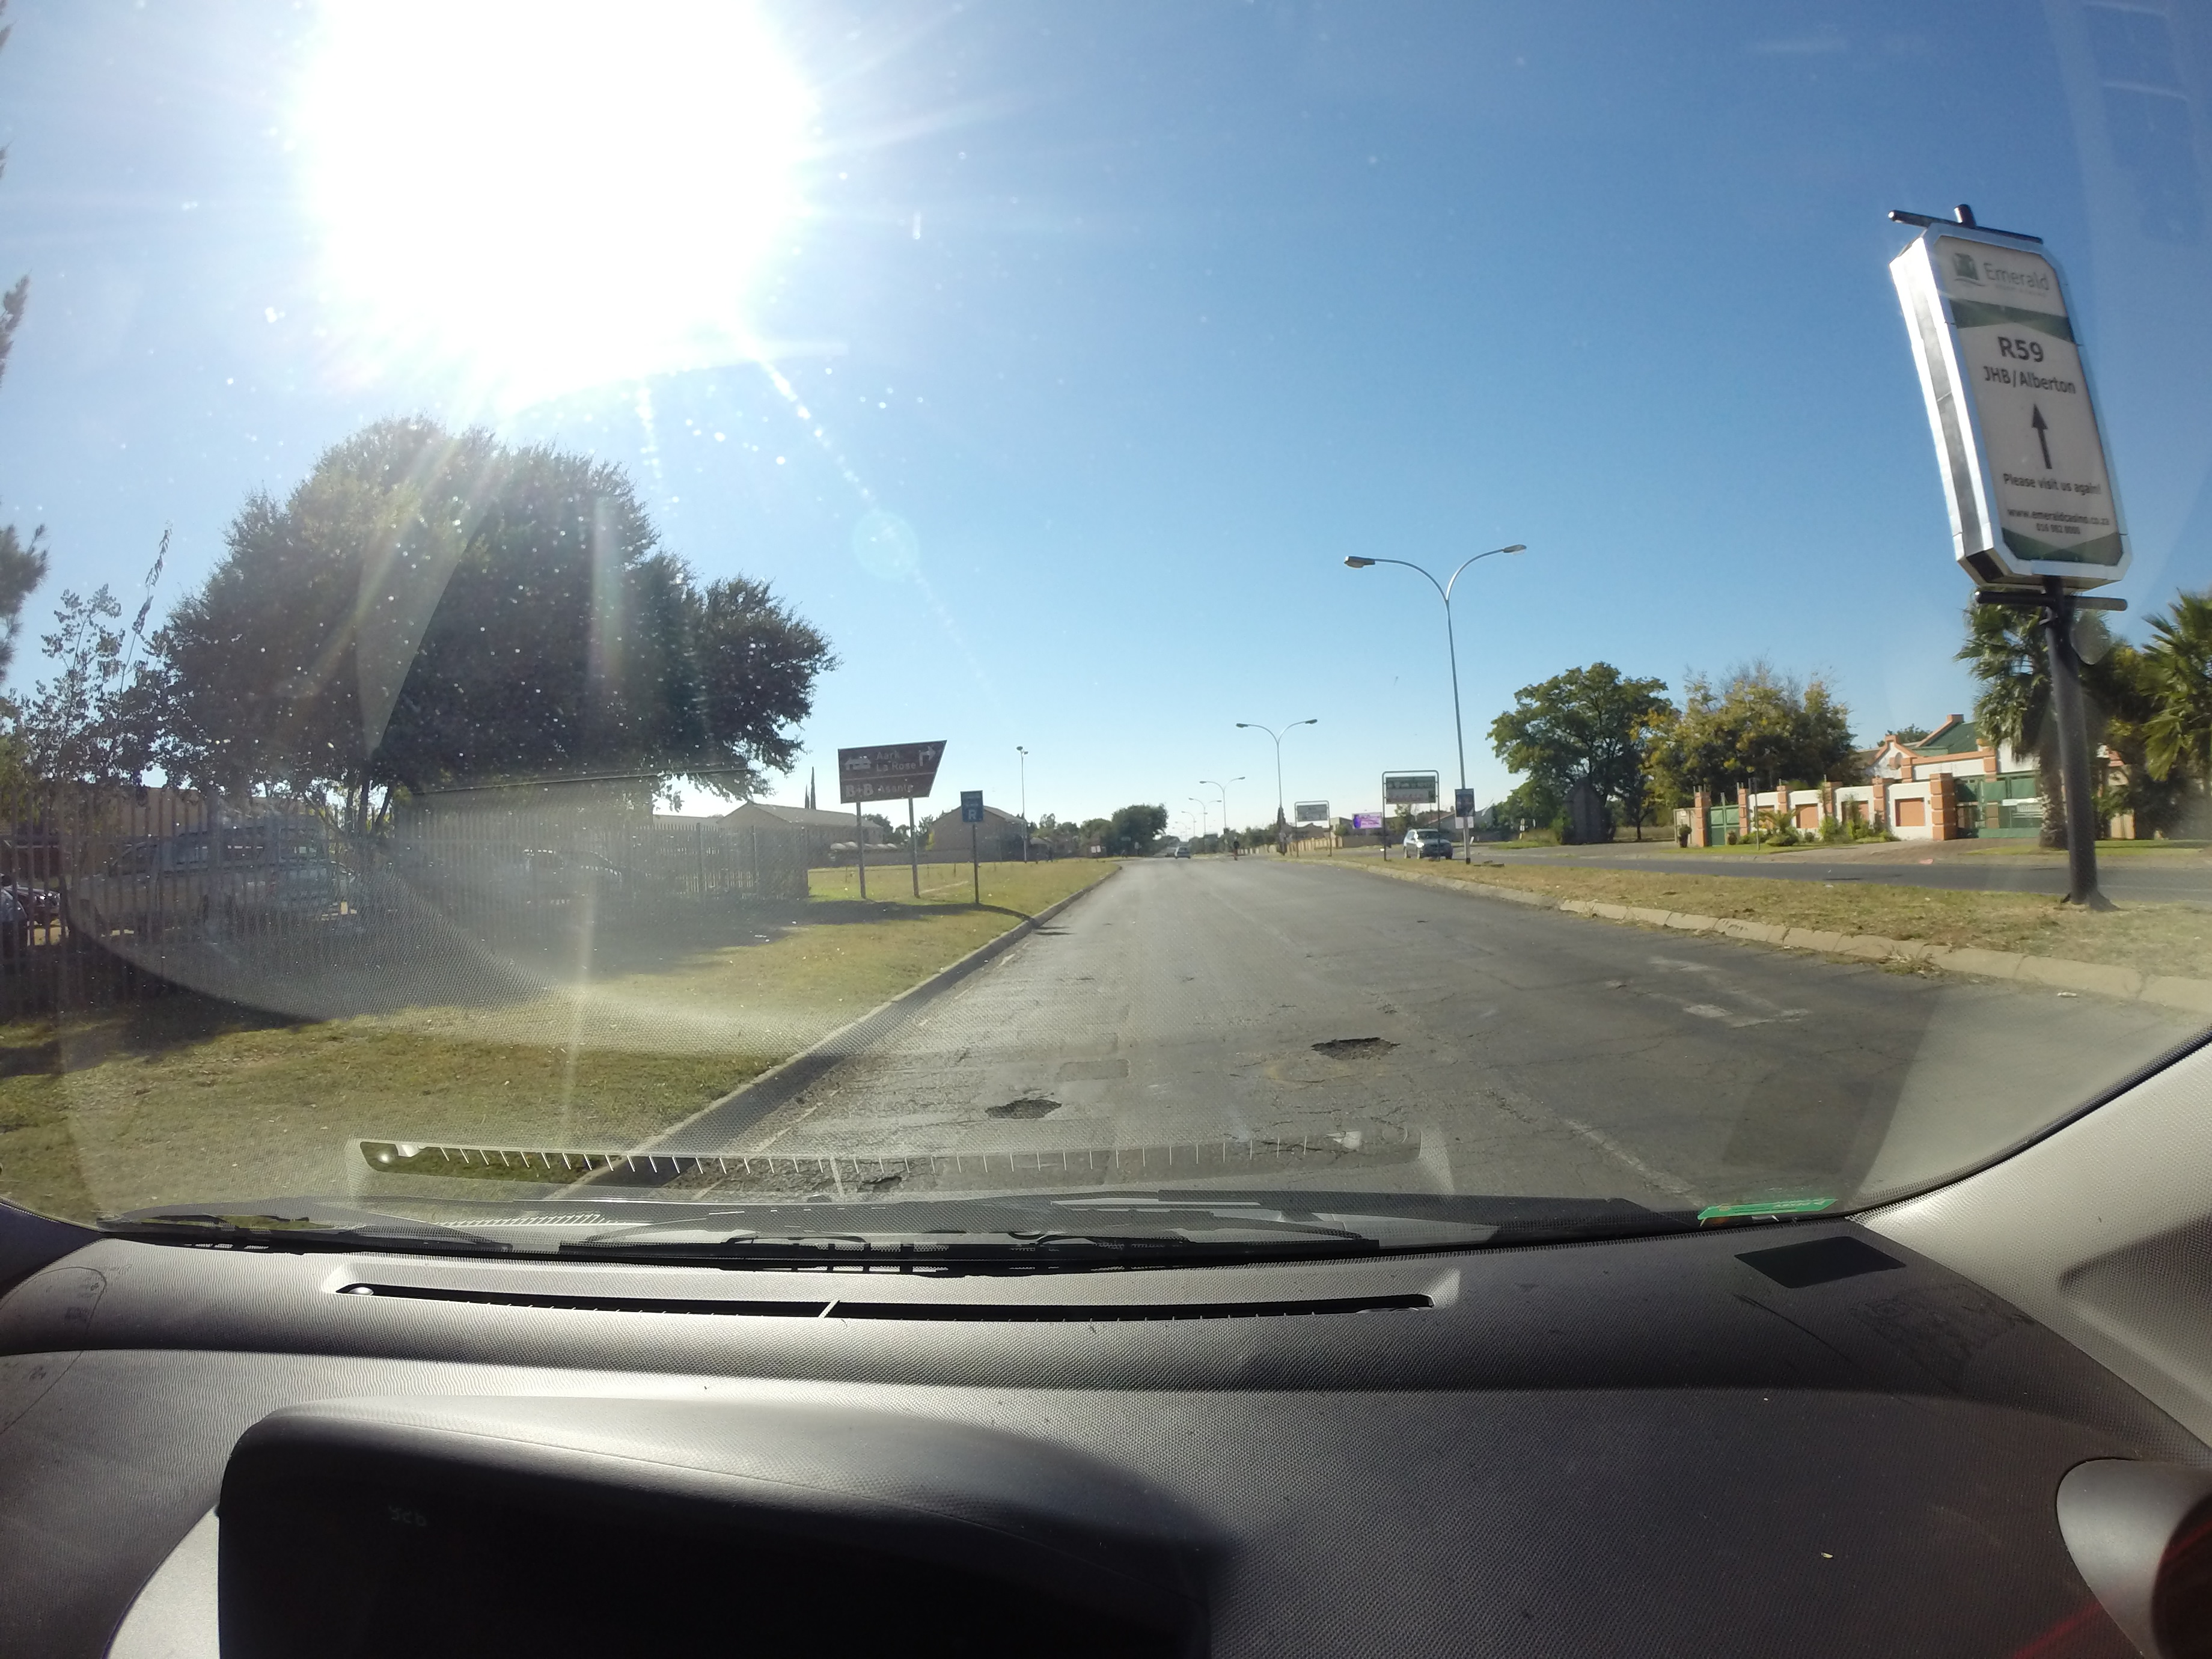pothole: (1305, 1012, 1423, 1079), (979, 1082, 1076, 1138)
